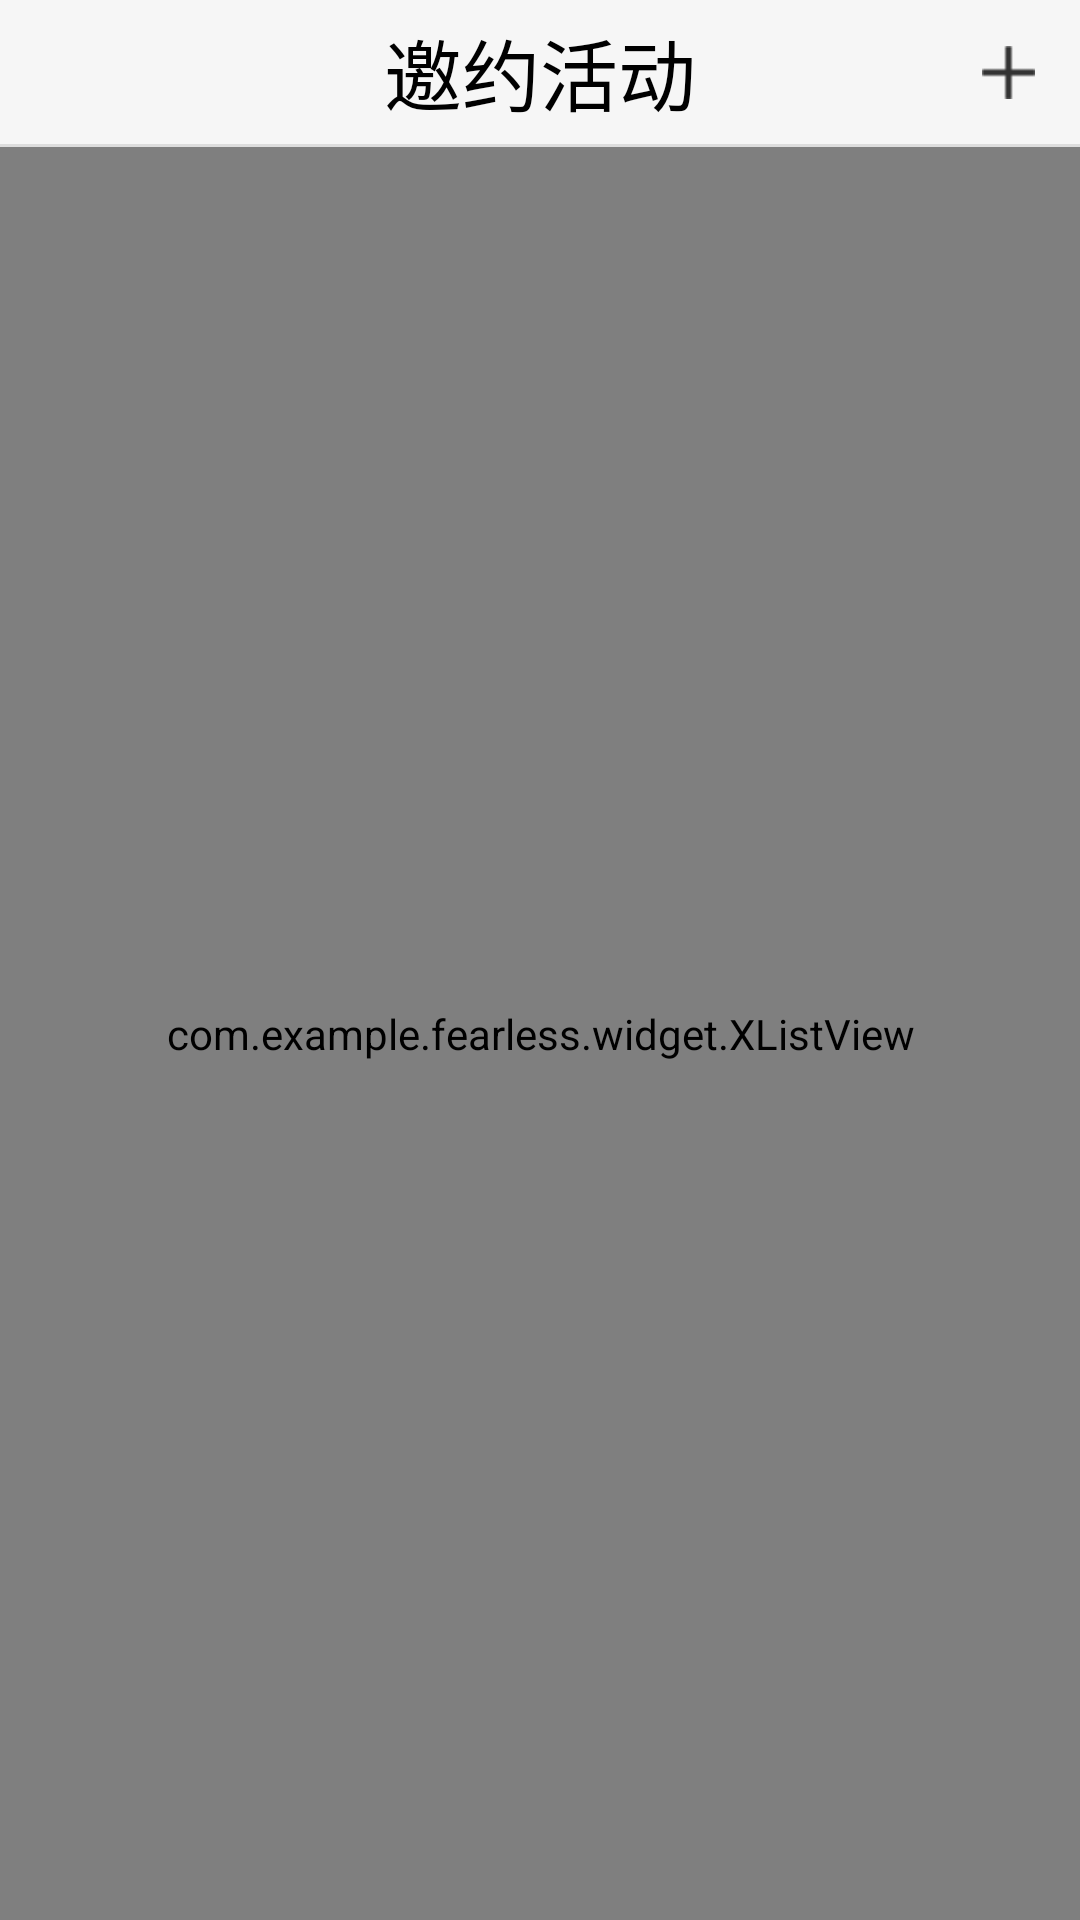

Screen size 1080px×1920px. Icon name, then its box in pixels as (x1, y1, x2, y2):
add: (982, 46, 1035, 99)
